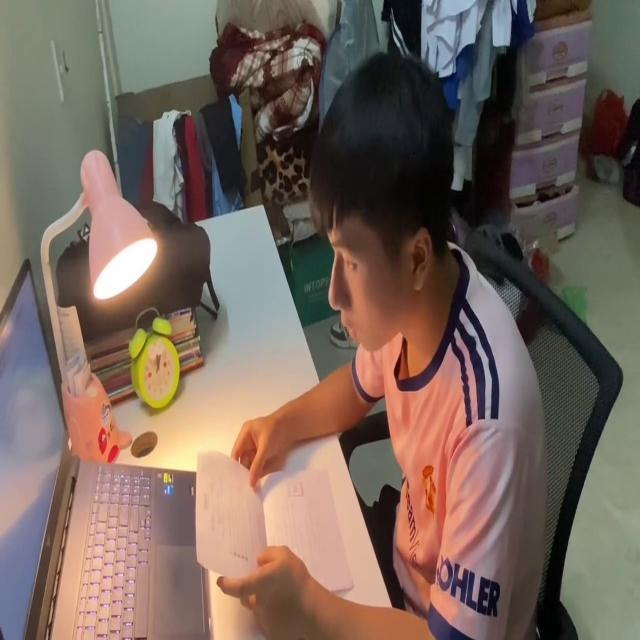book: (191, 443, 356, 597)
laptop: (3, 253, 211, 640)
student: (216, 50, 553, 640)
